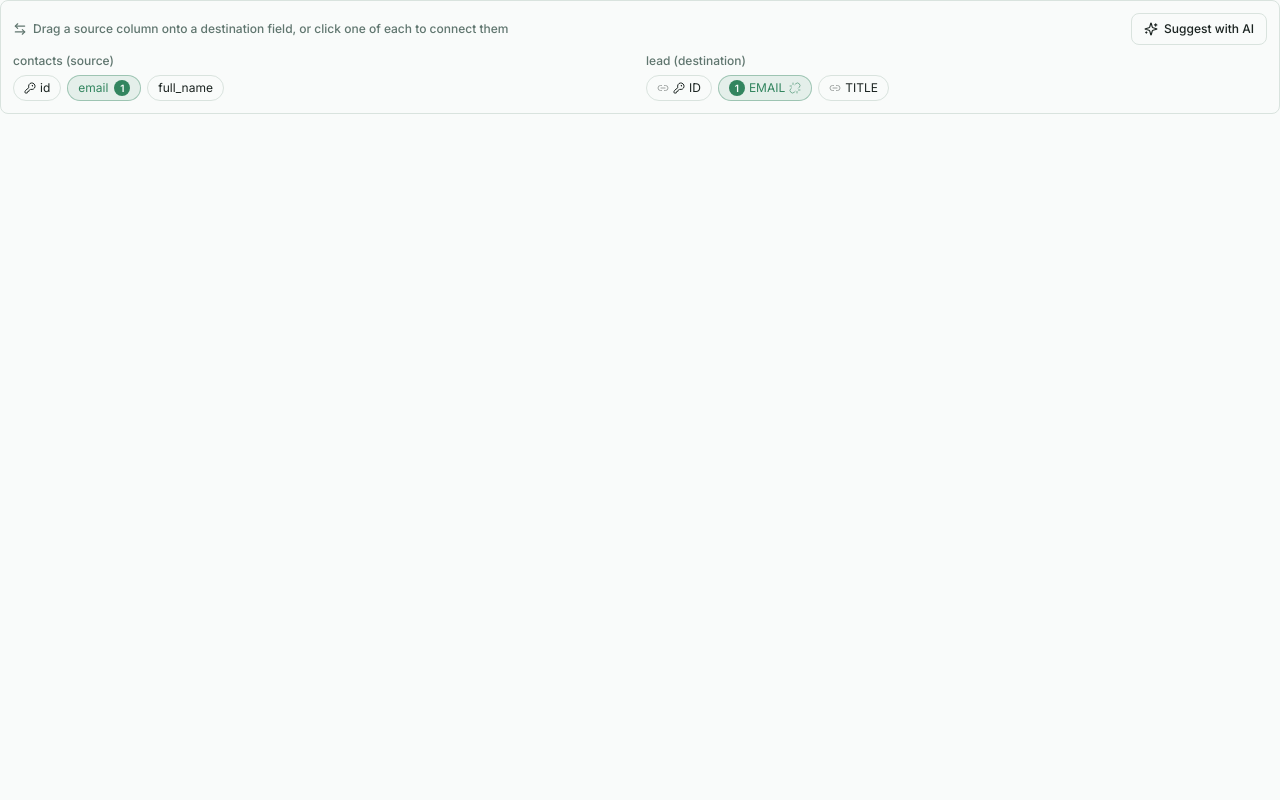
it: MappingBoard › AI suggestions › shows an info toast when every suggestion is already mapped
The width and height of the screenshot is (1280, 800).
Click the button "Suggest with AI" at (1199, 29), box [1131,13,1267,45]
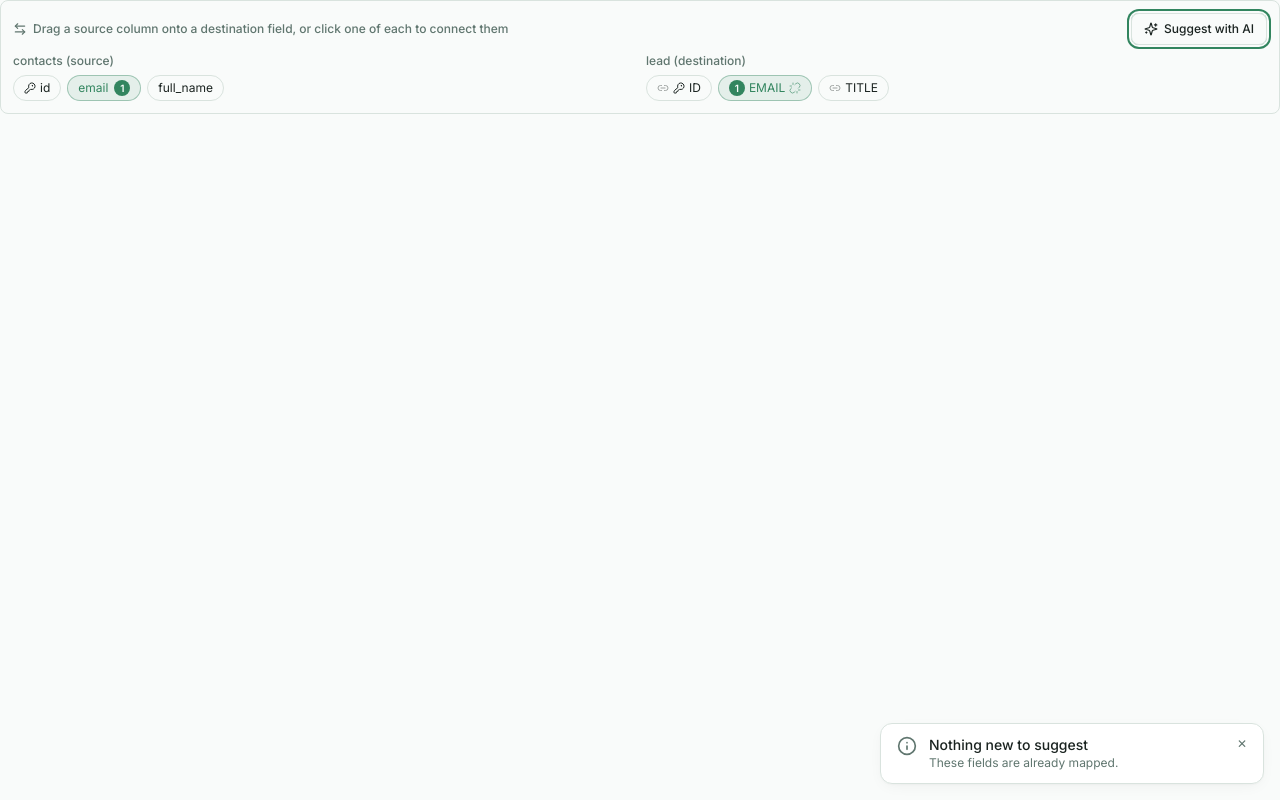
Result: the text "Nothing new to suggest" is shown at [929,736,1088,752]
